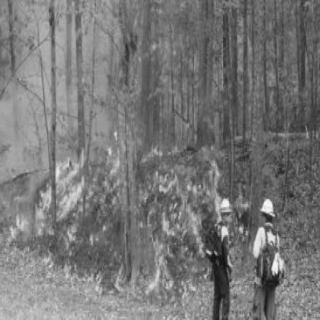Fire: (4, 108, 256, 301)
